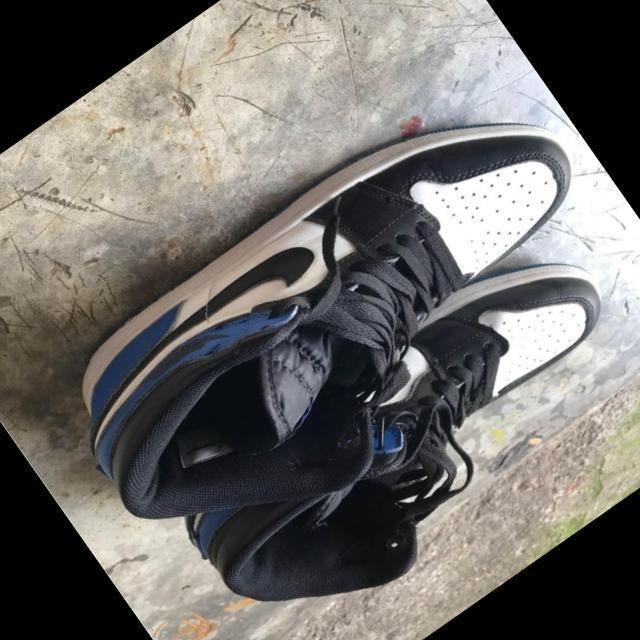nike fake jordan 1: (3, 53, 640, 619), (157, 219, 640, 640)
